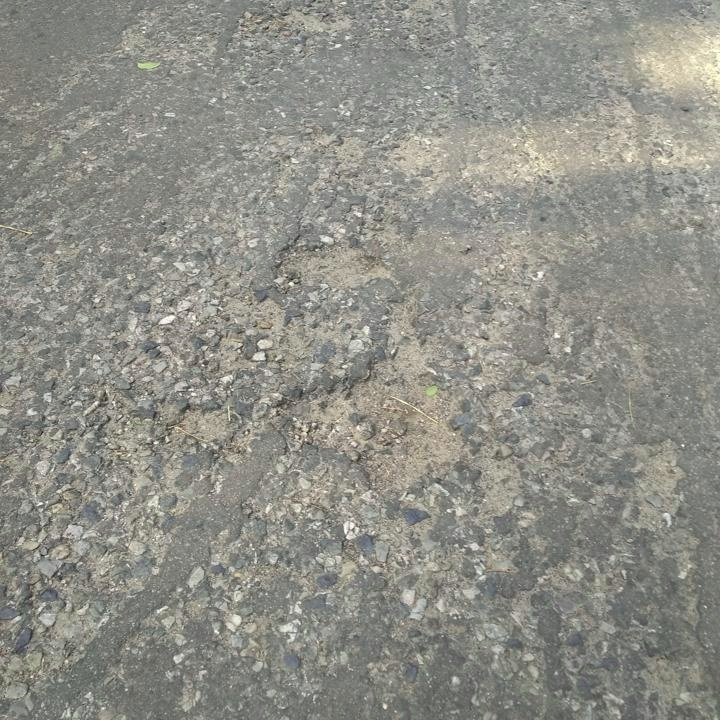pothole: (269, 332, 464, 491), (270, 236, 391, 296), (162, 401, 234, 445)
